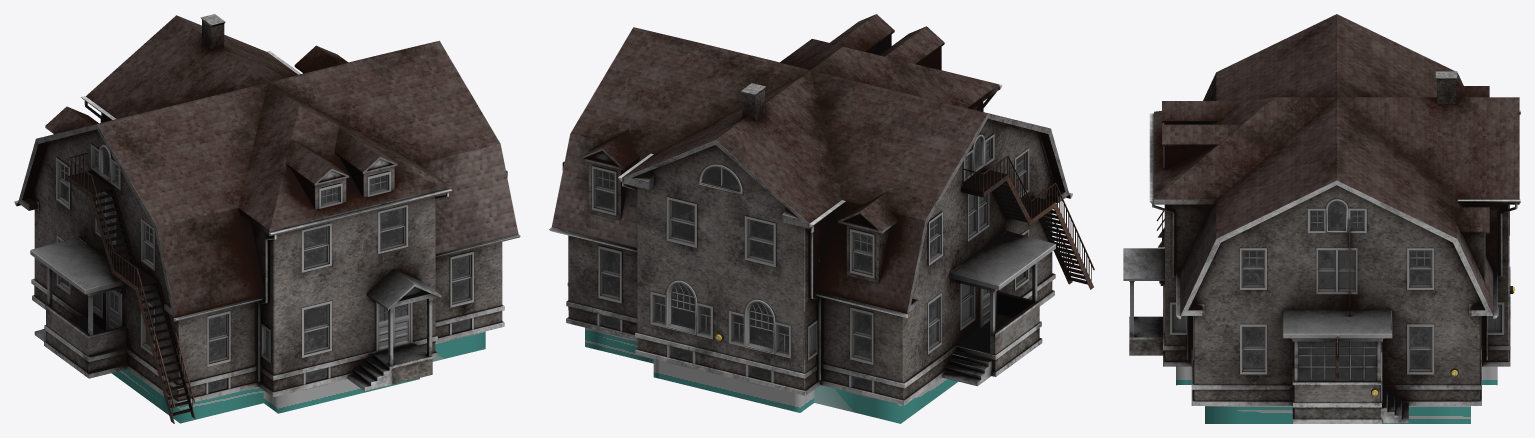
Rendered from Pythodd.glb.
The picture shows the model from 3 angles, left to right: view 1: azimuth 30°, elevation 25°; view 2: azimuth 150°, elevation 25°; view 3: azimuth 270°, elevation 25°; orthographic projection. The views are drawn at different scales.
Parts seen in each view (by area): view 1: Clar_265_Main.002, Clar_265_Dets.002, Clar_265_Open.002, Clar_265_Intr.002; view 2: Clar_265_Main.002, Clar_265_Open.002, Clar_265_Dets.002, Clar_265_Intr.002; view 3: Clar_265_Main.002, Clar_265_Dets.002, Clar_265_Open.002, Clar_265_Intr.002.
Boxes of the visible parts, x1=… form: Clar_265_Main.002: x1=18, y1=14, x2=518, y2=403; Clar_265_Dets.002: x1=14, y1=51, x2=520, y2=423; Clar_265_Open.002: x1=56, y1=144, x2=473, y2=399; Clar_265_Intr.002: x1=111, y1=331, x2=485, y2=423; Clar_265_Main.002: x1=551, y1=14, x2=1069, y2=405; Clar_265_Open.002: x1=592, y1=134, x2=1029, y2=398; Clar_265_Dets.002: x1=549, y1=39, x2=1094, y2=386; Clar_265_Intr.002: x1=585, y1=327, x2=957, y2=423; Clar_265_Main.002: x1=1154, y1=14, x2=1519, y2=405; Clar_265_Dets.002: x1=1123, y1=109, x2=1520, y2=423; Clar_265_Open.002: x1=1163, y1=123, x2=1509, y2=402; Clar_265_Intr.002: x1=1176, y1=366, x2=1497, y2=423.
Bounding box in the file's own units: 21.94 × 12.94 × 16.88.
Materials: 13 (12 with a texture image).
